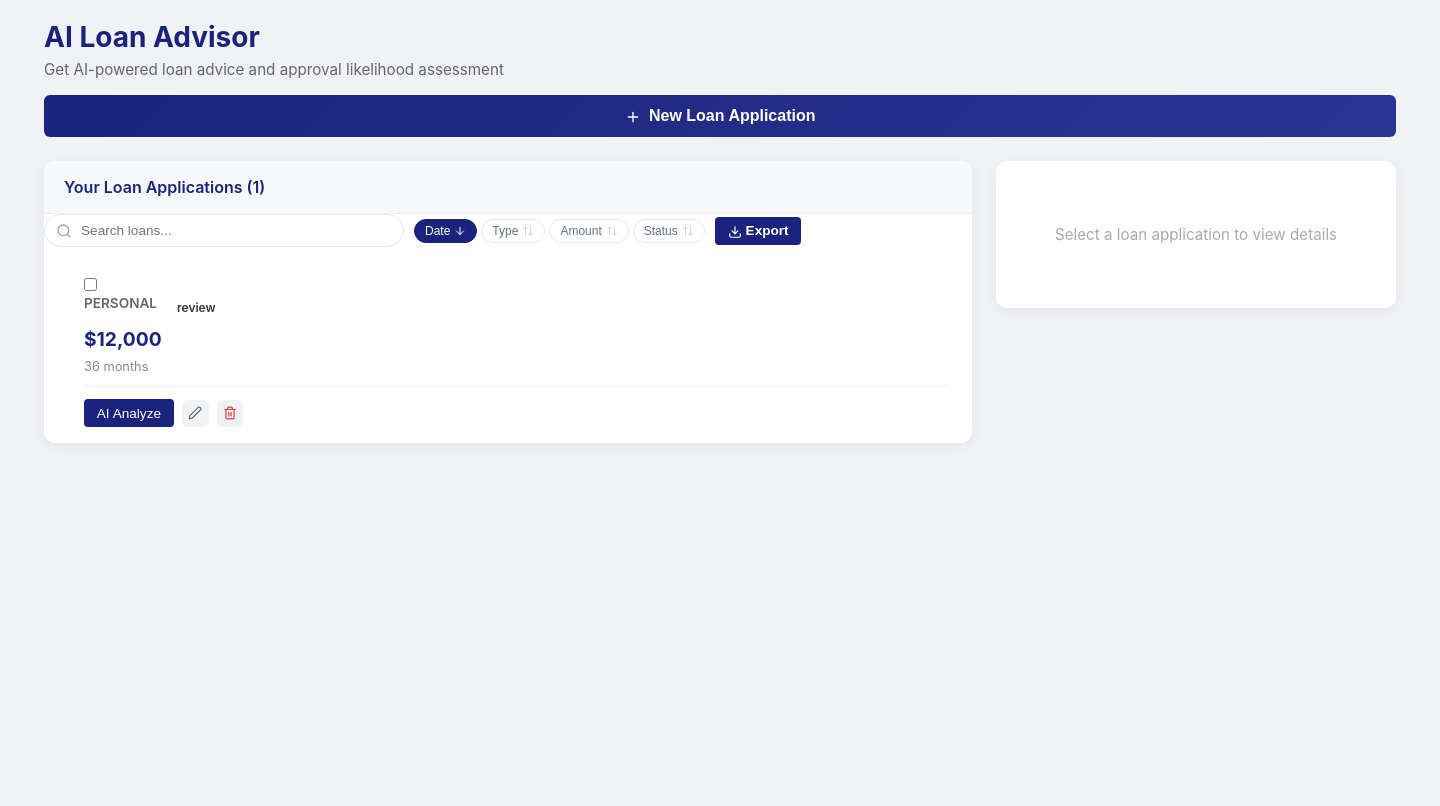
Test: saved loan detail renders complete structured AI analysis without generation
Expected: the heading "Your Loan Applications (1)" is shown, 44,161 -> 972,214
Click the text "PERSONAL" at (121, 303), box 84,295 -> 157,311
(page scrolled)
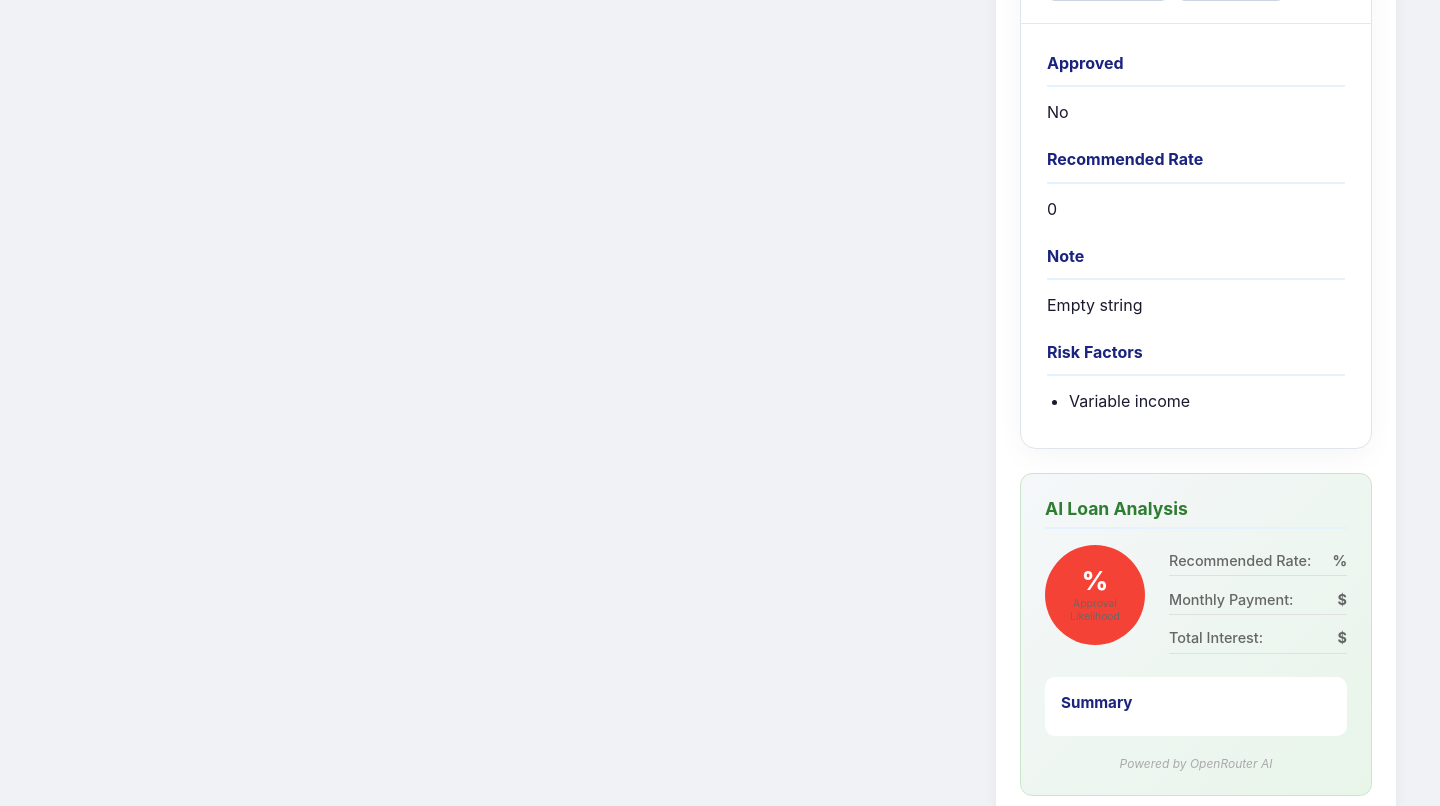
Result: the heading "Approved" is shown at 1047,50 -> 1345,87
Result: the text "No" is shown at 1047,102 -> 1069,122
Result: the text "Empty string" is shown at 1047,295 -> 1142,315
